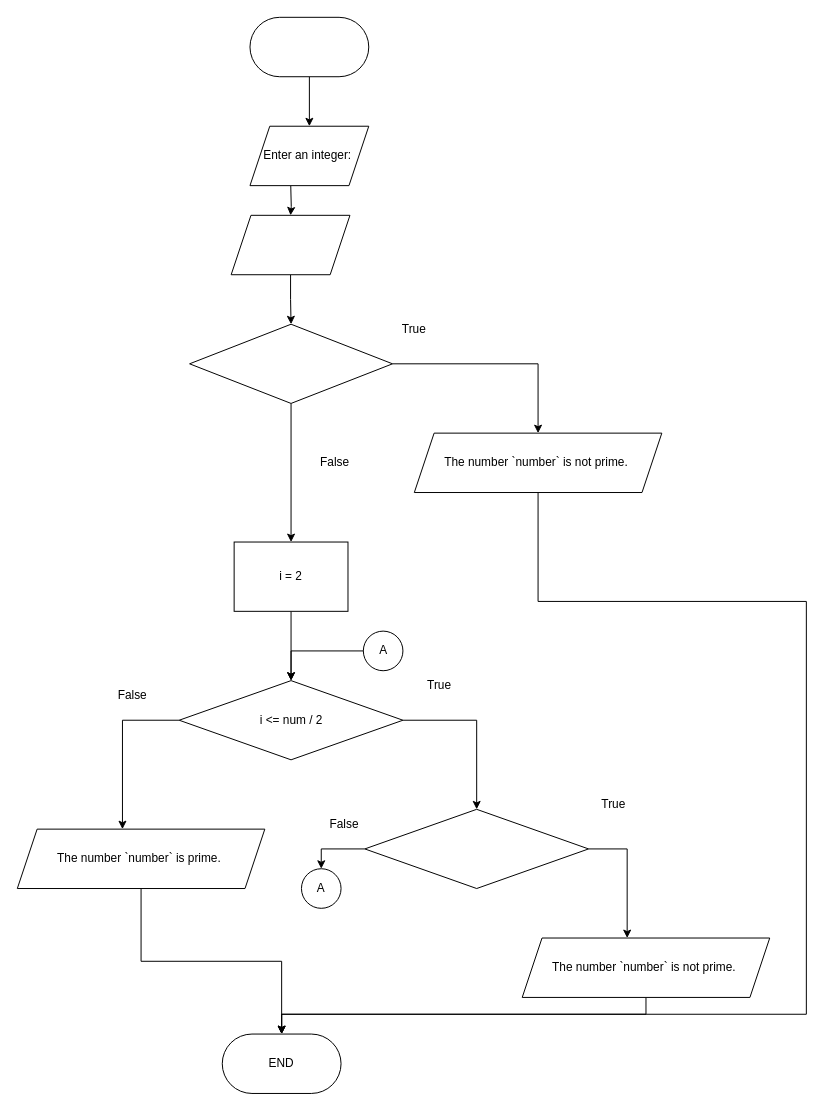
The diagram is 832 pixels wide and 1111 high, and some of its shapes have lost their labels. The shapes that lost their labels are listed below. From the top down, each one's box as (x1, y1, x2, y2) in pixels, then its label:
(249, 16, 369, 77): Main
(230, 214, 350, 275): number
(189, 323, 393, 403): number <= 0
(364, 808, 589, 889): num % i == 0
